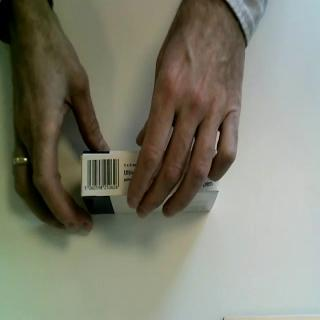ultiva5mg: (80, 149, 220, 217)
